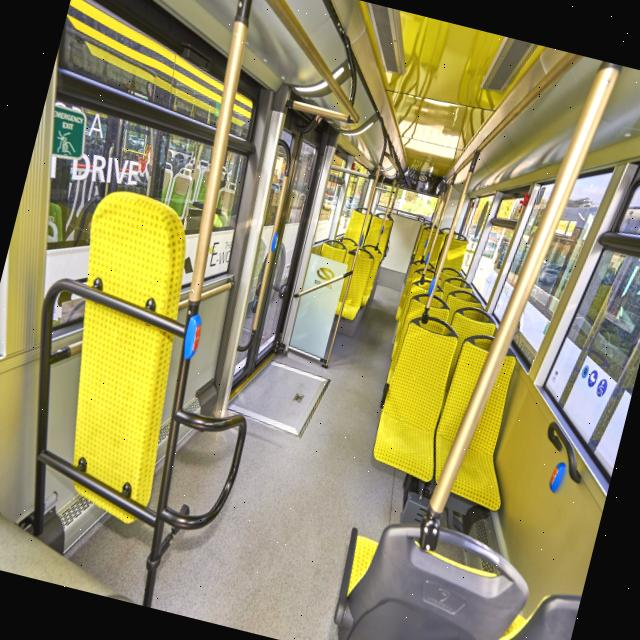empty-seat-frontal: (420, 320, 542, 516), (364, 308, 469, 482)
